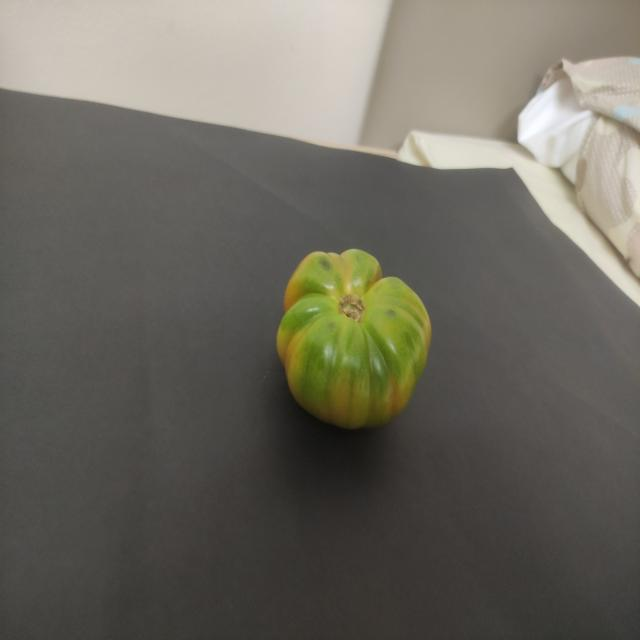unripe tomato: (257, 227, 450, 461)
